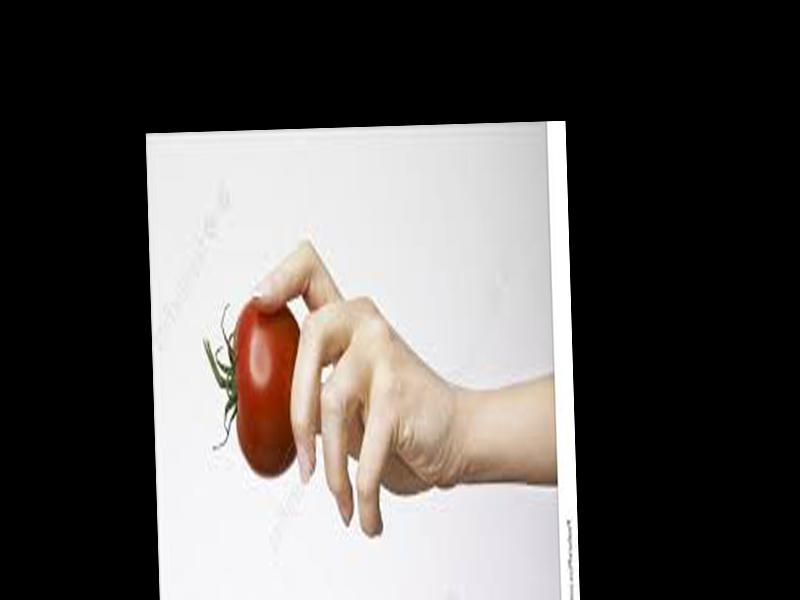Tomato: (203, 298, 303, 477)
